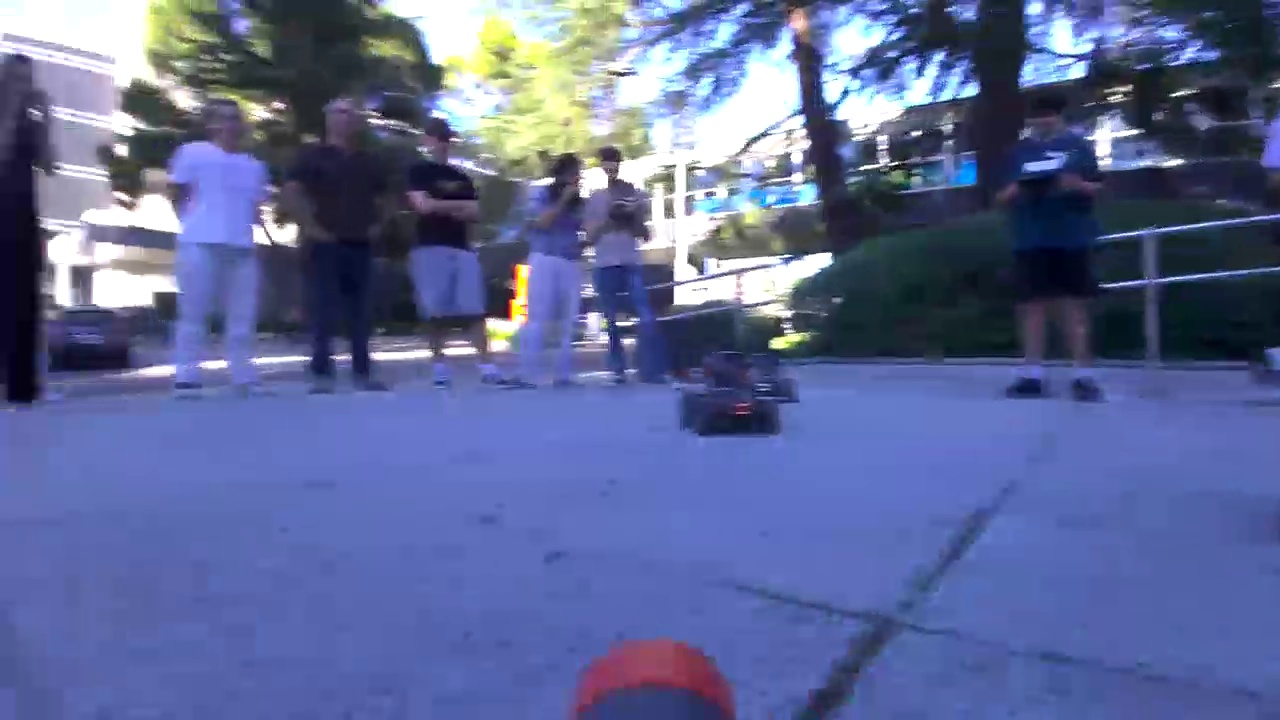robot: (655, 341, 779, 454), (749, 326, 802, 417)
